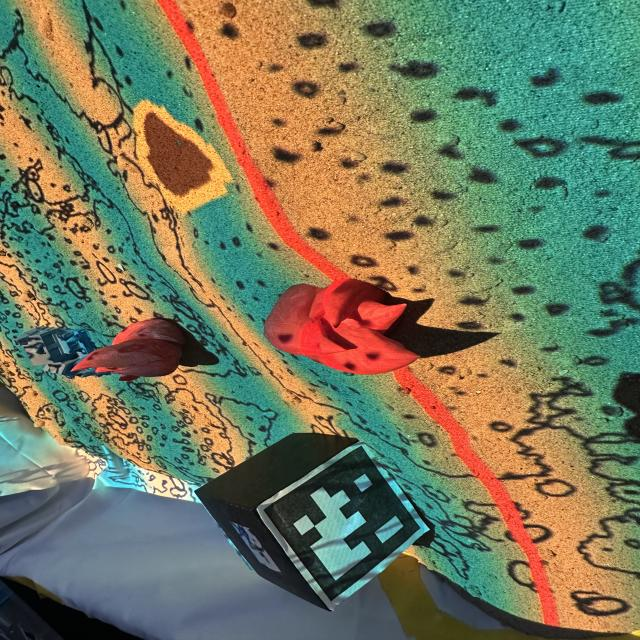fire: (265, 281, 421, 375), (71, 318, 182, 380)
house: (14, 326, 98, 380)
